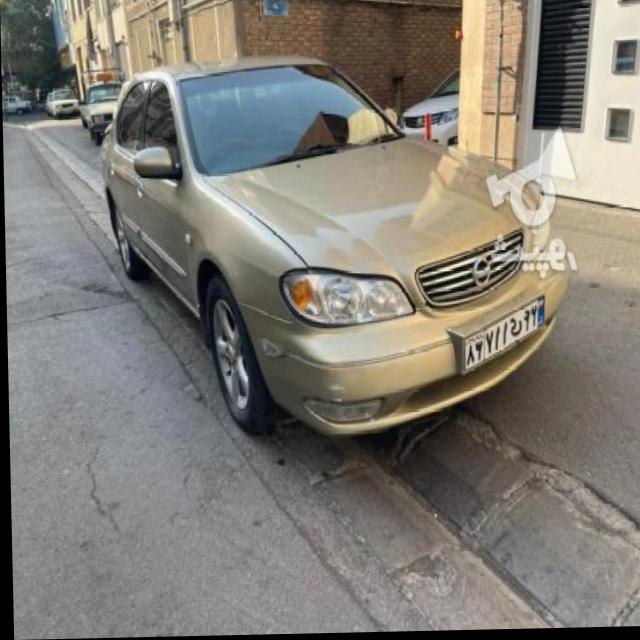licence: (463, 295, 549, 374)
